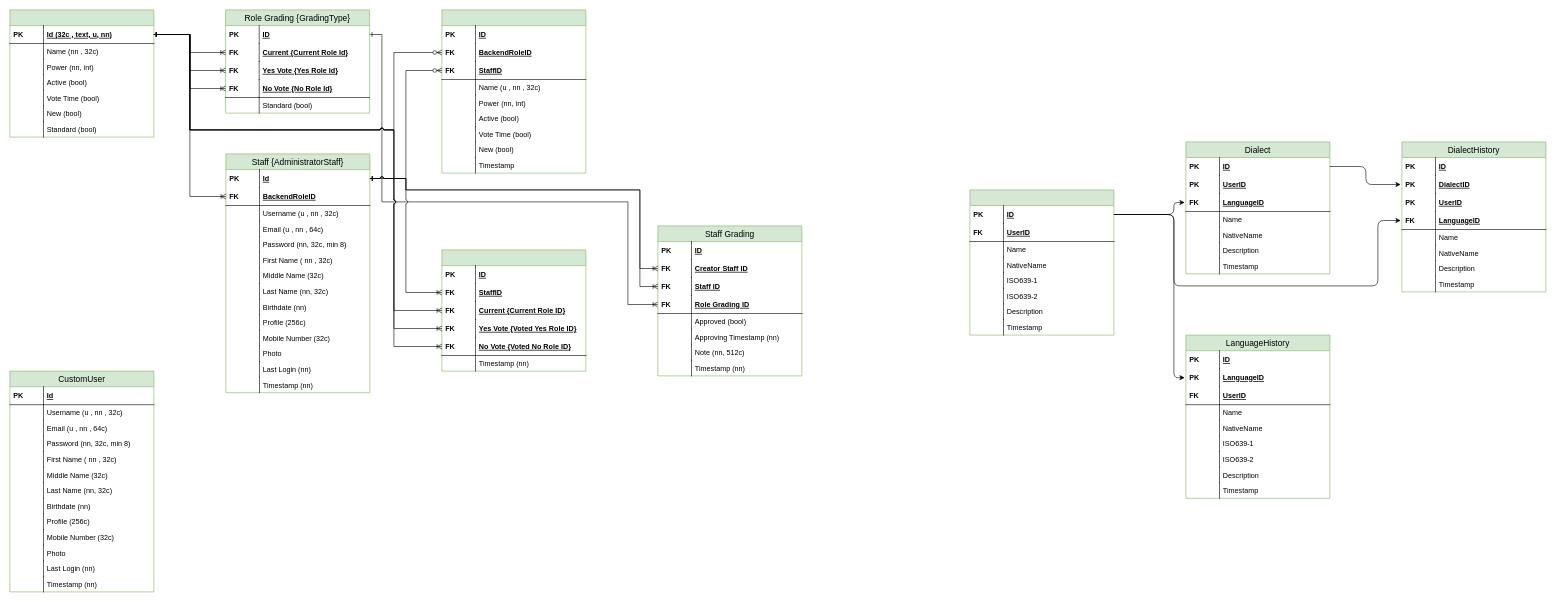
Some shapes in this 1556 by 602 pixel diagram are drawn without their labels. The shapes that lost their labels are listed below. From the top down, each one's box as (x1, y1, x2, y2) in pixels, then its label:
(9, 9, 154, 137): BackendRole
(441, 9, 586, 173): BackendRoleHistory
(969, 189, 1114, 335): Language
(441, 249, 586, 371): Role Grading History {GradingType History}
